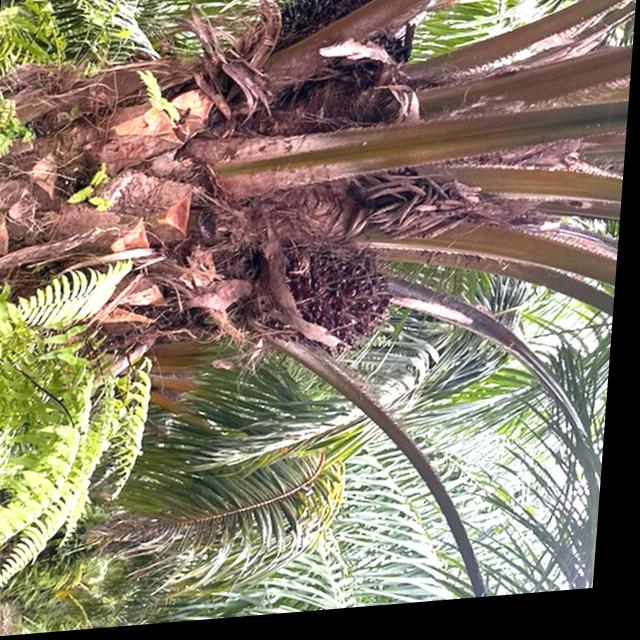ripe: (280, 240, 406, 356)
